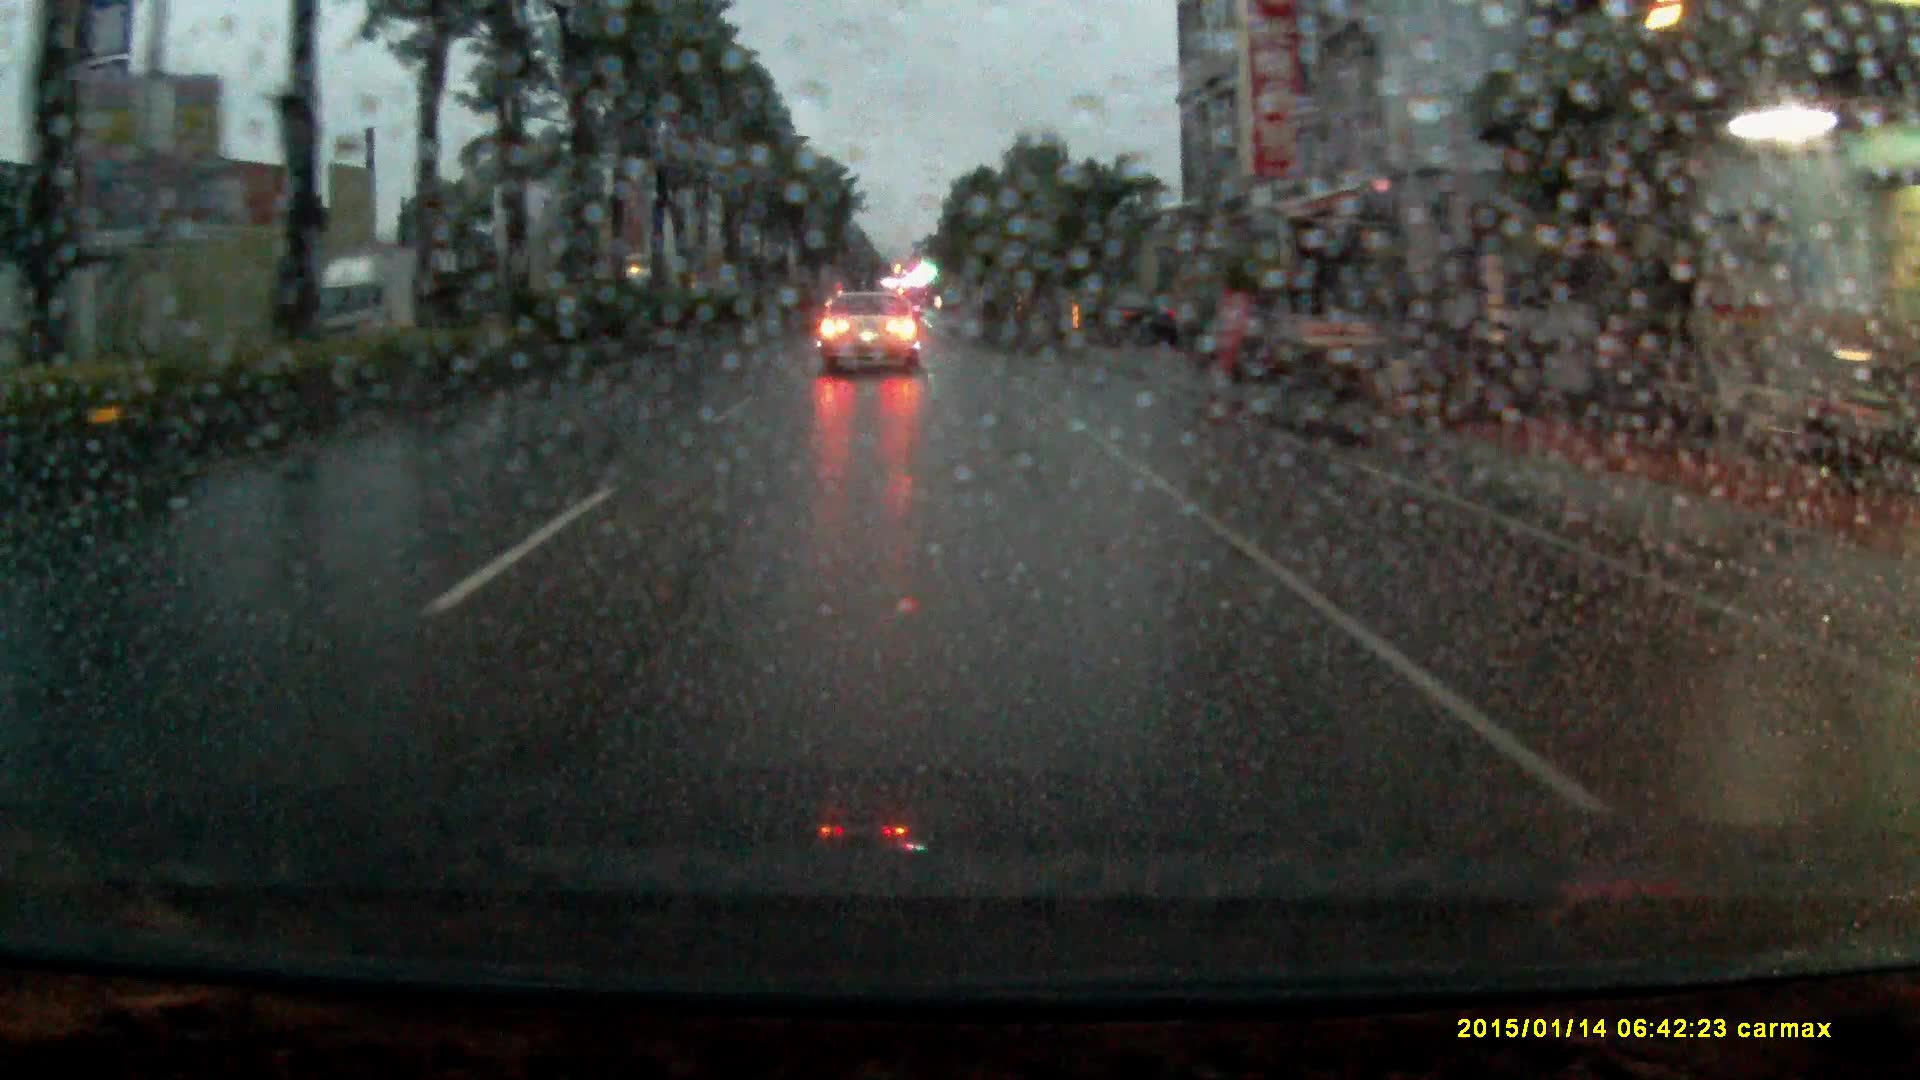vehicle: (298, 245, 464, 336), (820, 290, 922, 378), (1097, 293, 1182, 348)
